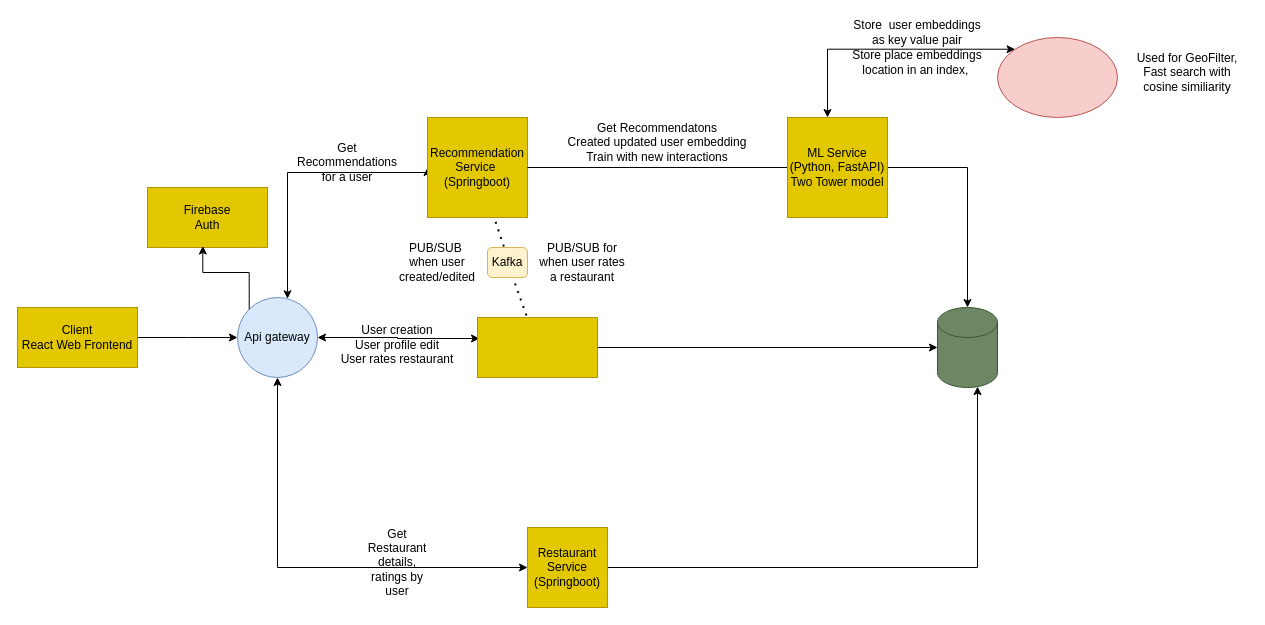
This 1265x625 diagram has some shape labels left out. The centre of each missing label's shape, as x and y in pixels:
RECO DB Postgres: [967,347]
REDIS: [1057,77]
User Service (Springboot): [537,347]
